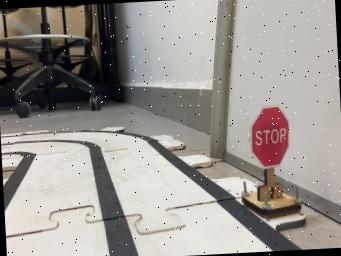stop: (241, 105, 301, 218), (241, 105, 301, 218), (241, 105, 301, 218)
street: (0, 130, 301, 256), (0, 130, 301, 256), (0, 130, 301, 256)
